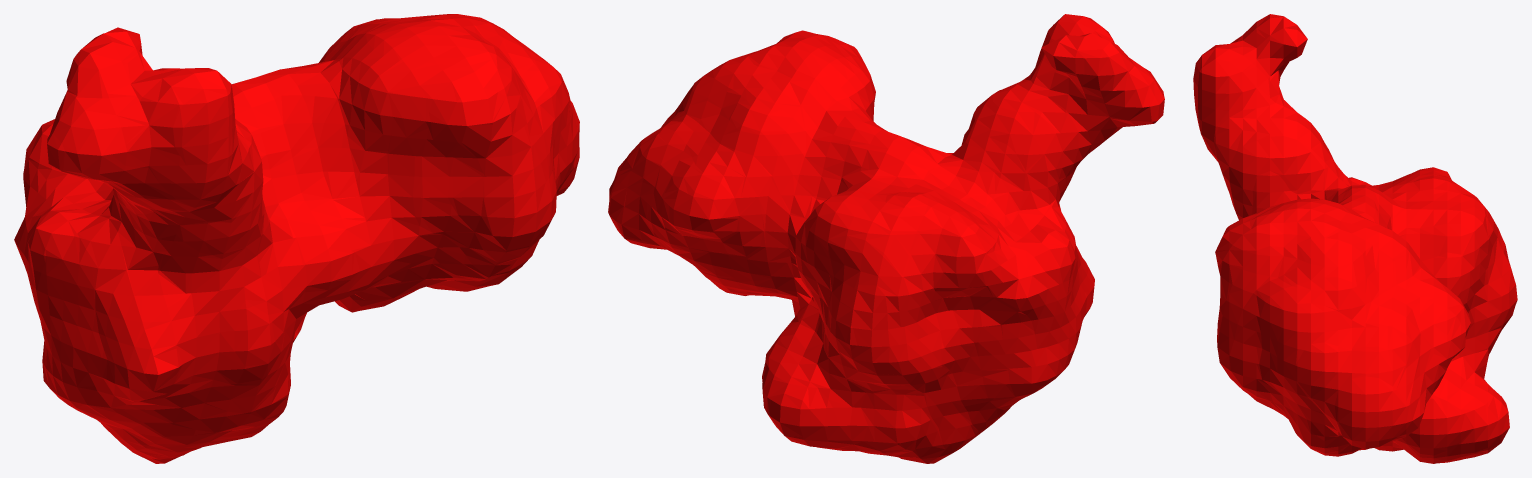
Rendered from proA_coarse.dae.
3 renders of one model, left to right at view 1: azimuth 30°, elevation 25°; view 2: azimuth 150°, elevation 25°; view 3: azimuth 270°, elevation 25°, orthographic. The views are drawn at different scales.
Parts seen in each view (by area): view 1: proA; view 2: proA; view 3: proA.
Boxes of the visible parts, box(x1,y1,x2,y2) form: proA: box(14, 14, 579, 463); proA: box(608, 14, 1164, 463); proA: box(1193, 14, 1517, 463).
Size of the model in its own units: 84.48 by 68.14 by 51.96.
